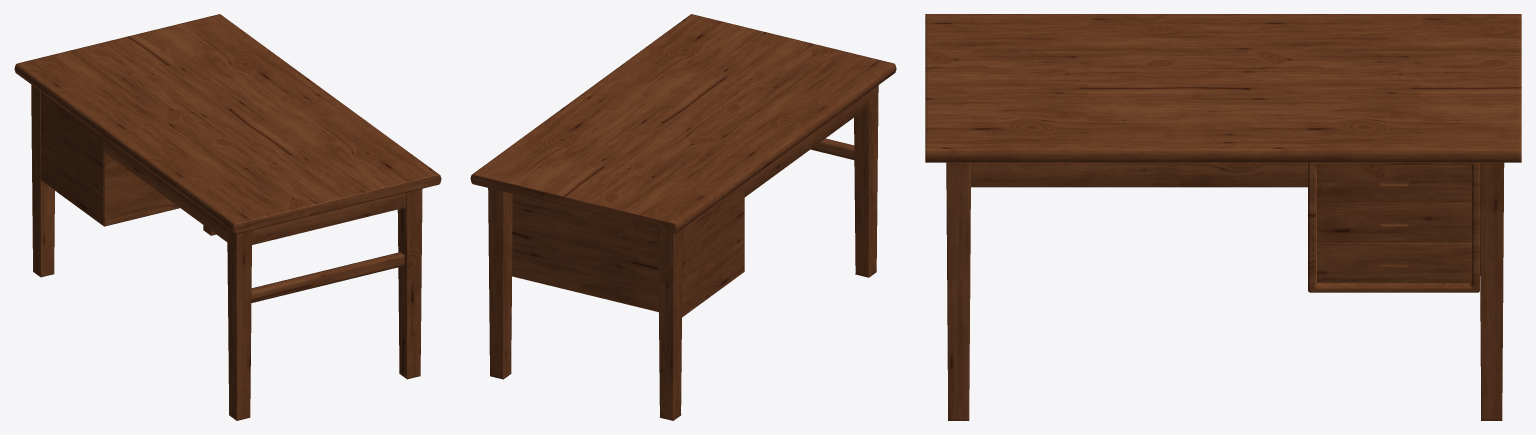
Rendered from meja.glb.
3 views of the same model, side by side, from view 1: azimuth 30°, elevation 25°; view 2: azimuth 150°, elevation 25°; view 3: azimuth 270°, elevation 25° (orthographic). The views are drawn at different scales.
Visible parts, largest first — view 1: Object_2; view 2: Object_2; view 3: Object_2.
Part boxes in pixels (box(x1,y1,x2,y2)): Object_2: box(14, 14, 441, 420); Object_2: box(470, 14, 896, 420); Object_2: box(925, 14, 1521, 420).
Bounding box in the file's own units: 45.16 × 42.6 × 82.51.
1 material, 1 textured.
